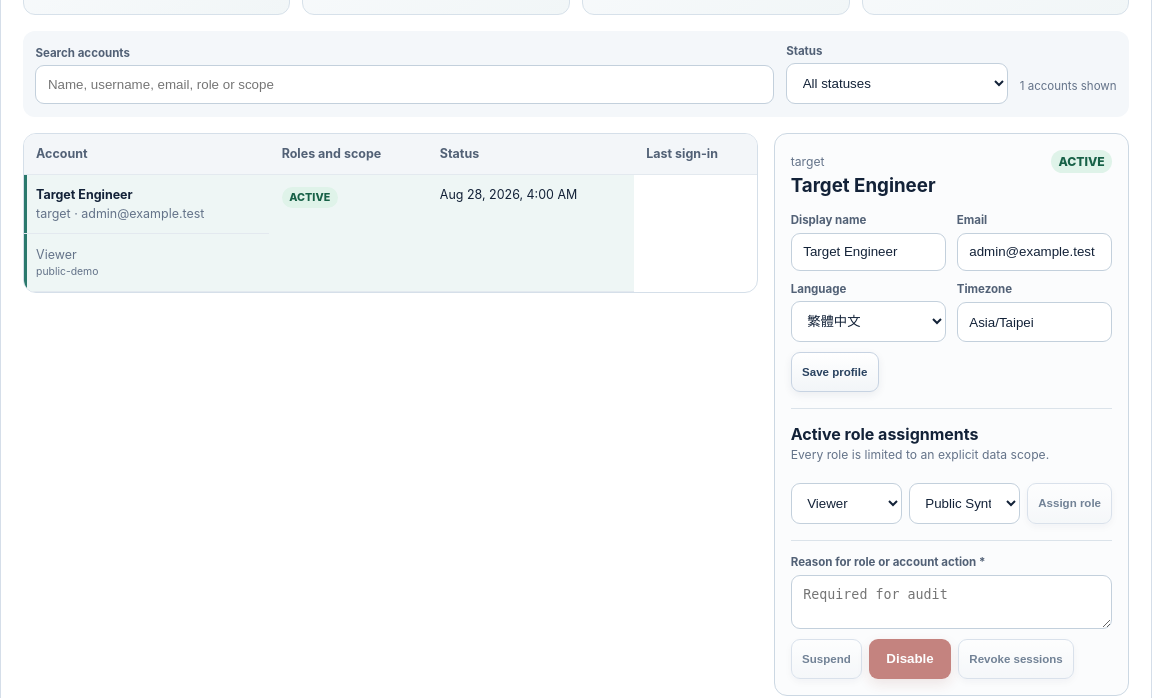
Test: IdentityManagementWorkspace › requires a reason and confirmation before suspending an account
(page scrolled)
Check: the button "Suspend" is disabled, box [791, 639, 862, 679]
Type "Pending access review" into the text box labelled "Reason for role or account action *" at (952, 602), box [791, 575, 1112, 629]
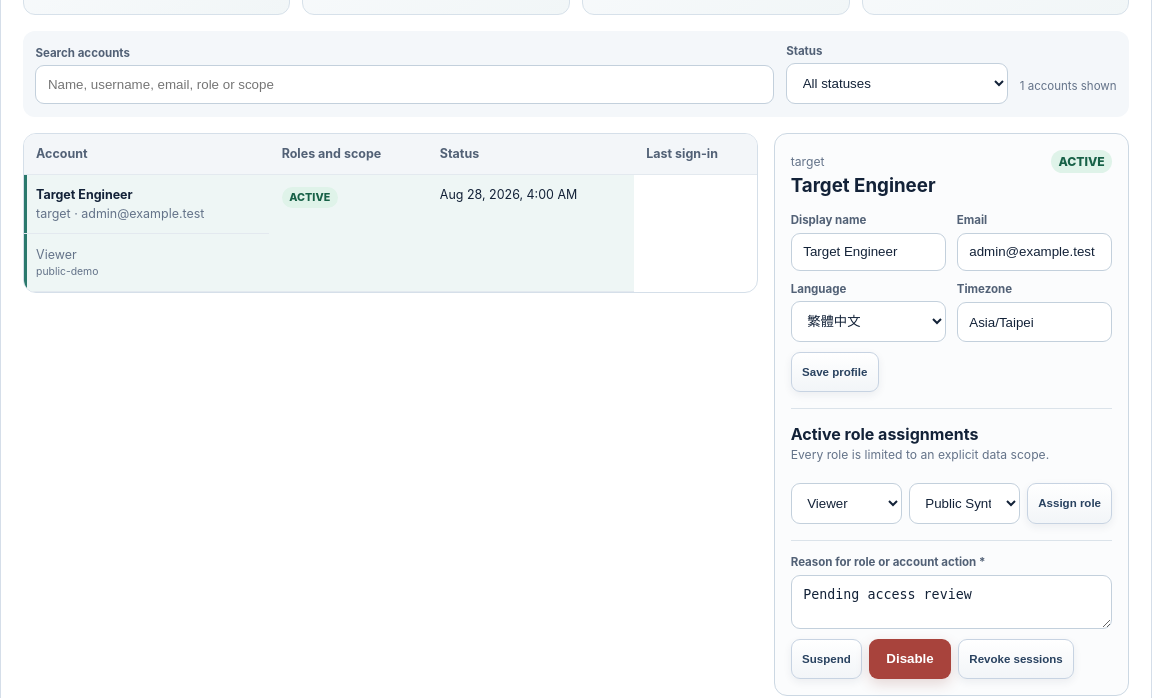
Click the button "Suspend" at (826, 659), box [791, 639, 862, 679]
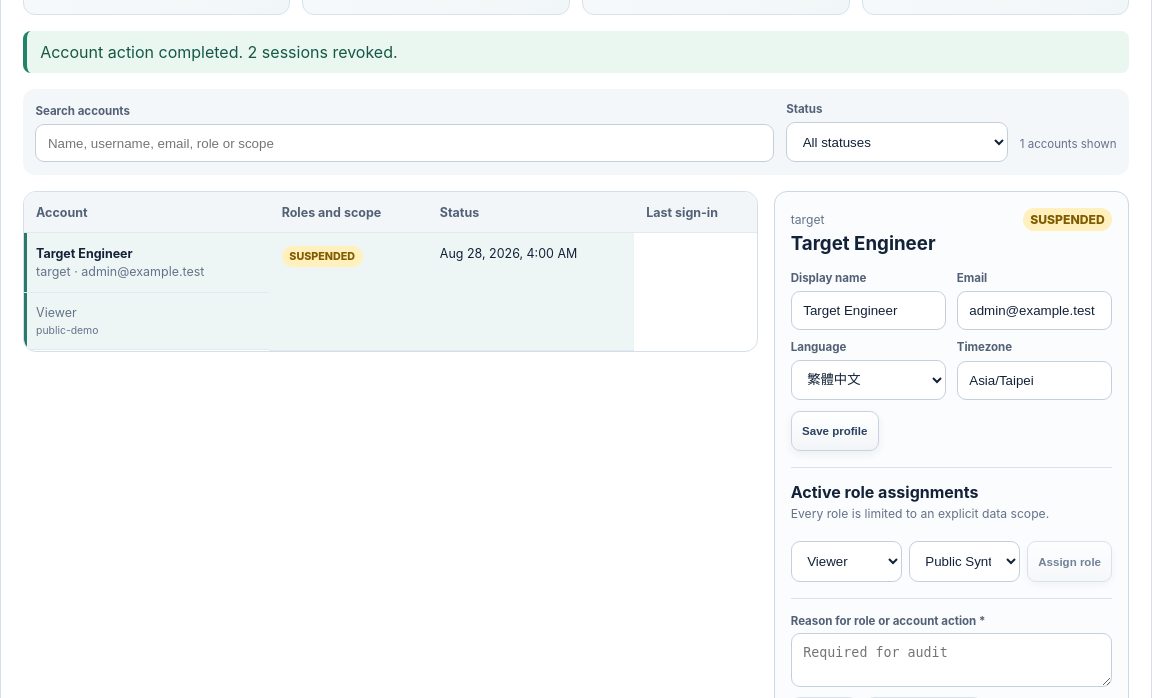
Check: the text "2 sessions revoked" is shown, box [40, 42, 398, 62]
Check: the text "suspended" is shown, box [282, 246, 363, 267]
